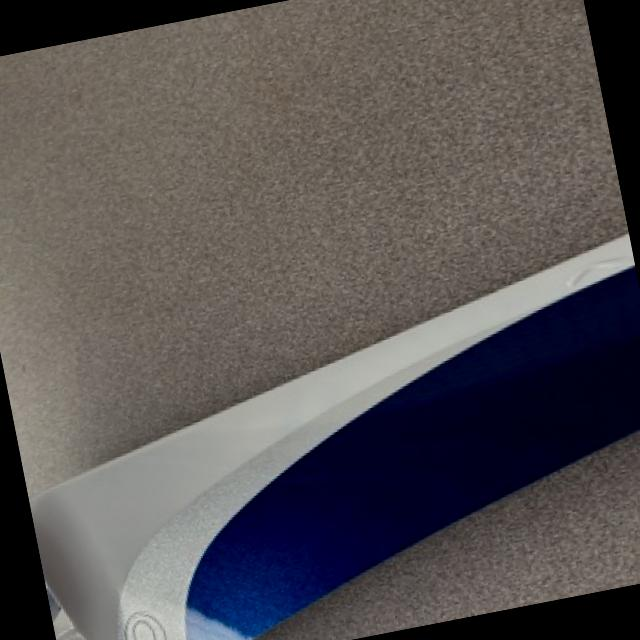healthy: (31, 234, 640, 640)
